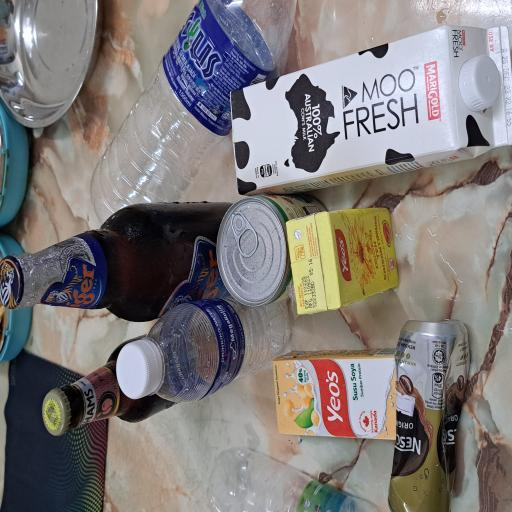can: (157, 293, 237, 432), (189, 303, 223, 344)
drink carton: (231, 297, 368, 512), (150, 390, 231, 512), (54, 365, 119, 512)
glass bottle: (140, 0, 236, 316), (57, 60, 130, 252)
plastic bottle: (216, 117, 382, 405), (82, 198, 160, 388), (0, 272, 46, 512)
plastic bottle cap: (85, 157, 130, 212)
